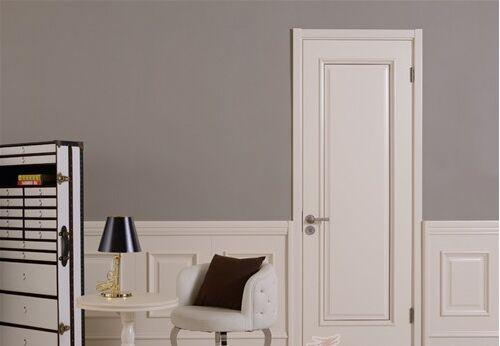door: (302, 37, 413, 346)
